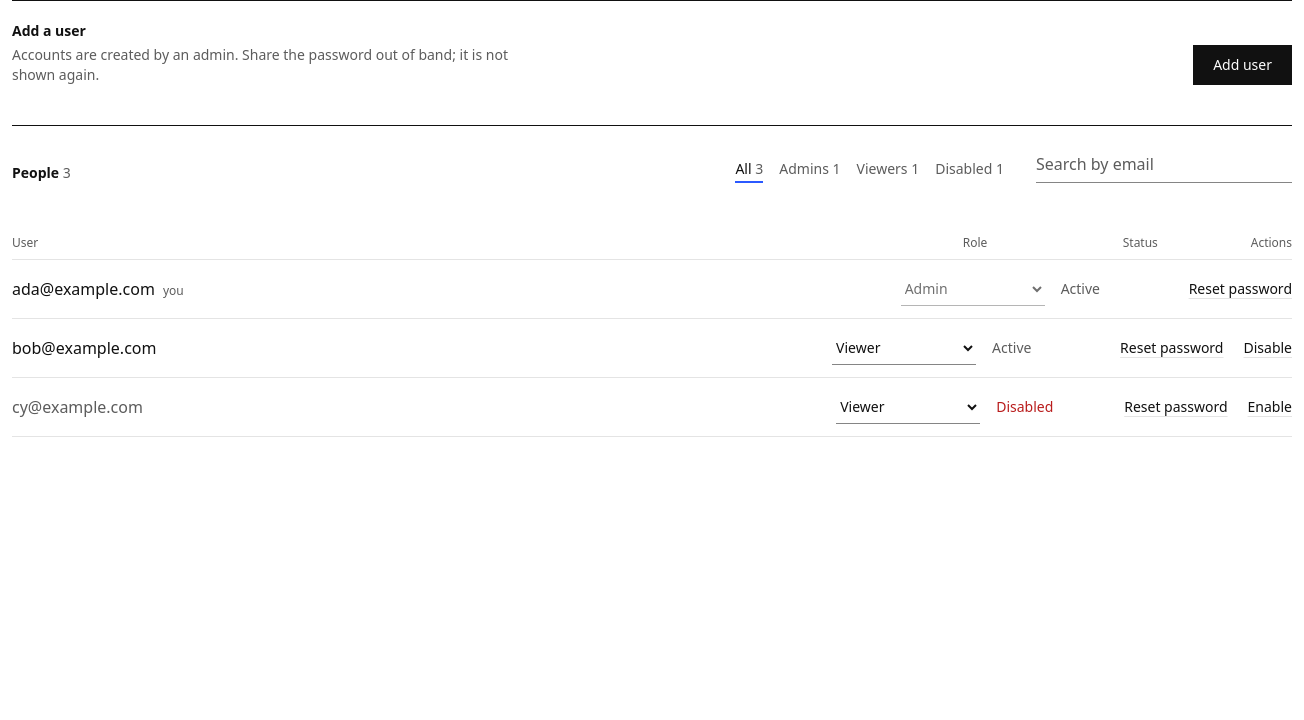
UserManager › asks for confirmation inline before disabling
Click the button "Disable": (1268, 348) [1244,338,1292,358]
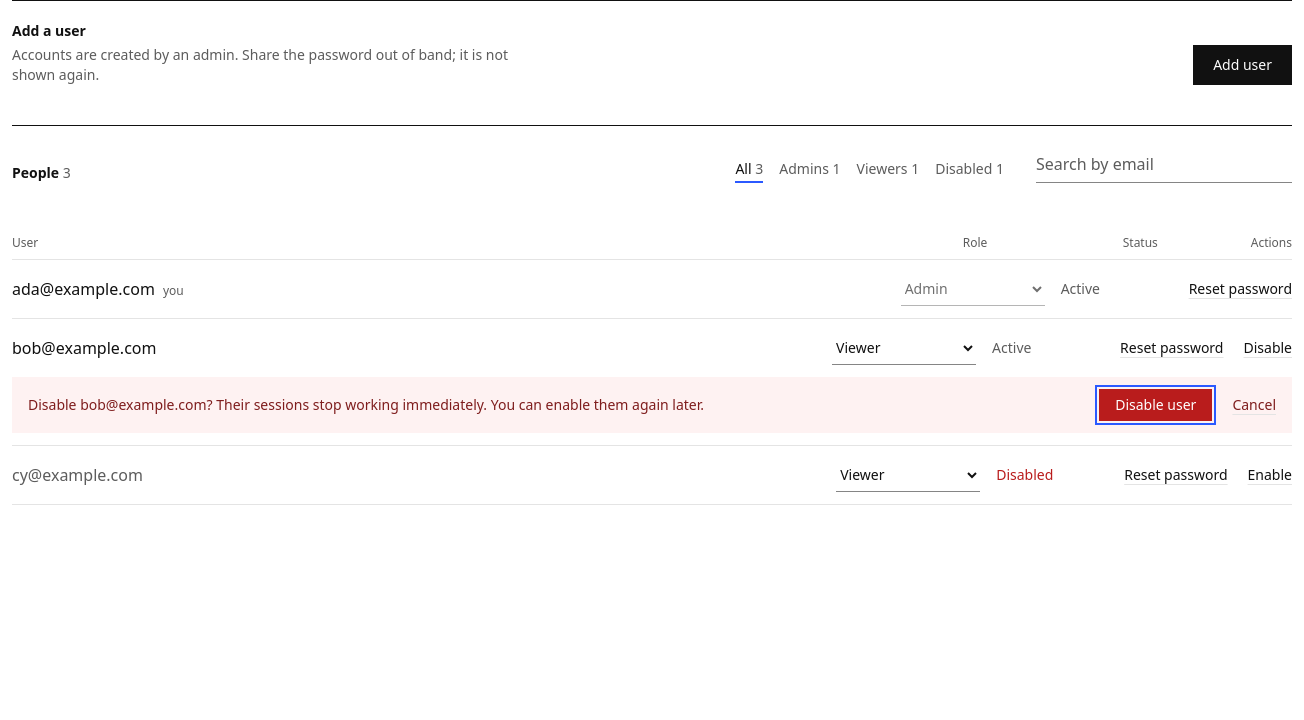
Check: the text "Their sessions stop working immediately" is shown, box [207,395,704,414]
Check: the button "Disable user" is shown, box [1099,389,1212,421]
